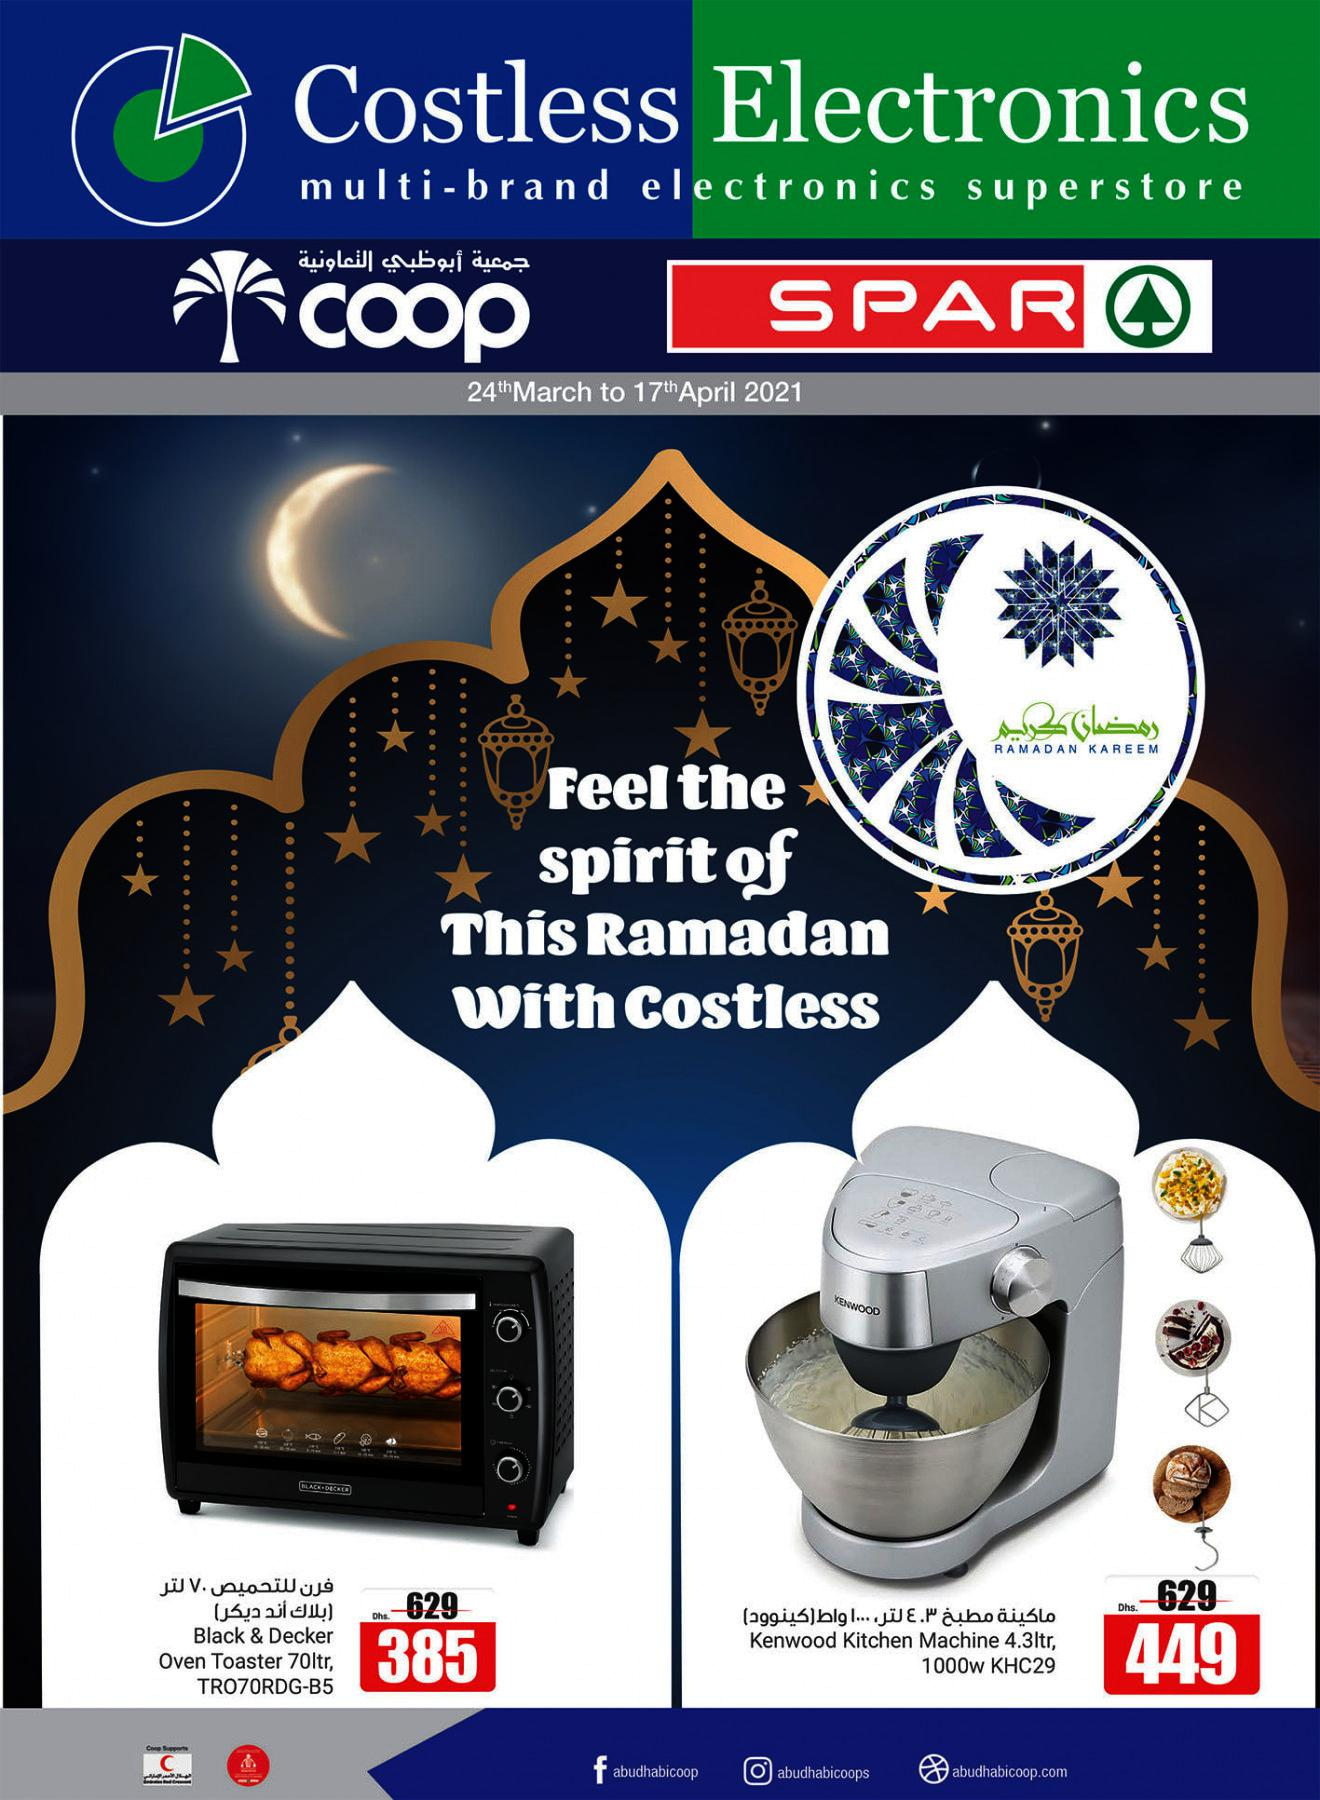text: (736, 1630, 1073, 1690), (127, 1623, 344, 1701), (131, 1572, 346, 1625), (724, 1602, 1070, 1630)
